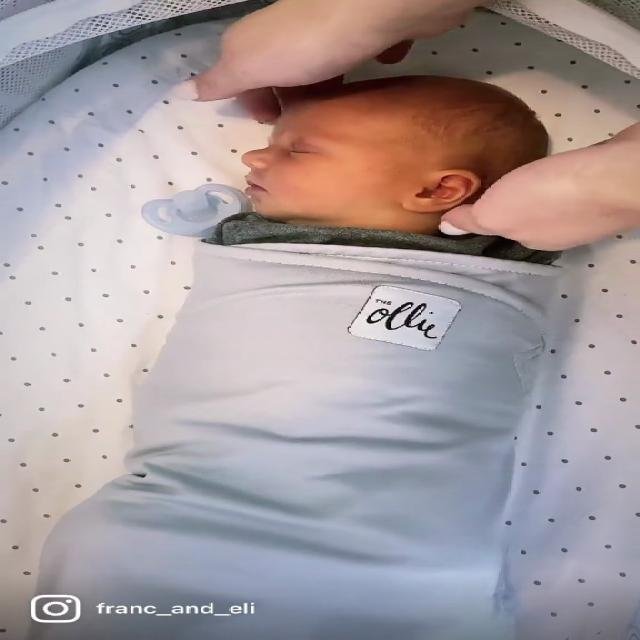baby: (27, 65, 553, 640)
